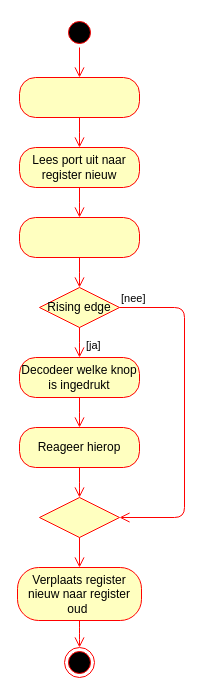
Some shapes in this 212 by 695 pixel diagram are drawn without their labels. Here are the shapes that lost their labels. From the top down, the centre of each, then its label:
(79,97): Maak pin hoog
(79,237): Rising edge test met register oud
